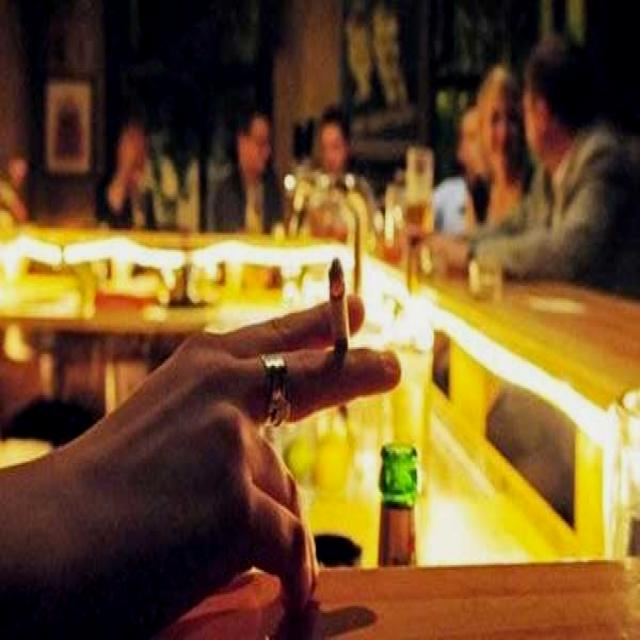Smooking: (316, 246, 366, 361)
